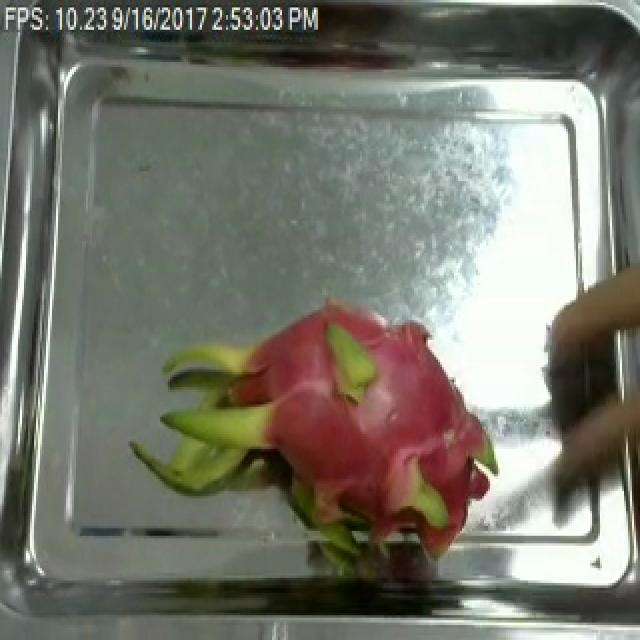fruit: (130, 278, 516, 603)
